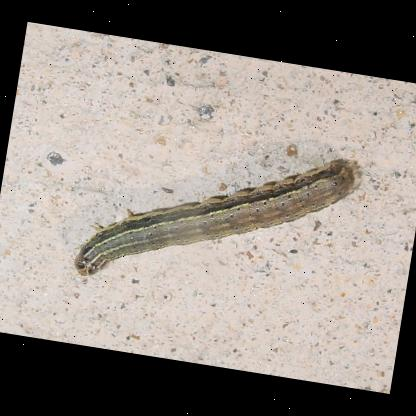Fall Armyworm Larvae: (65, 120, 360, 320)
